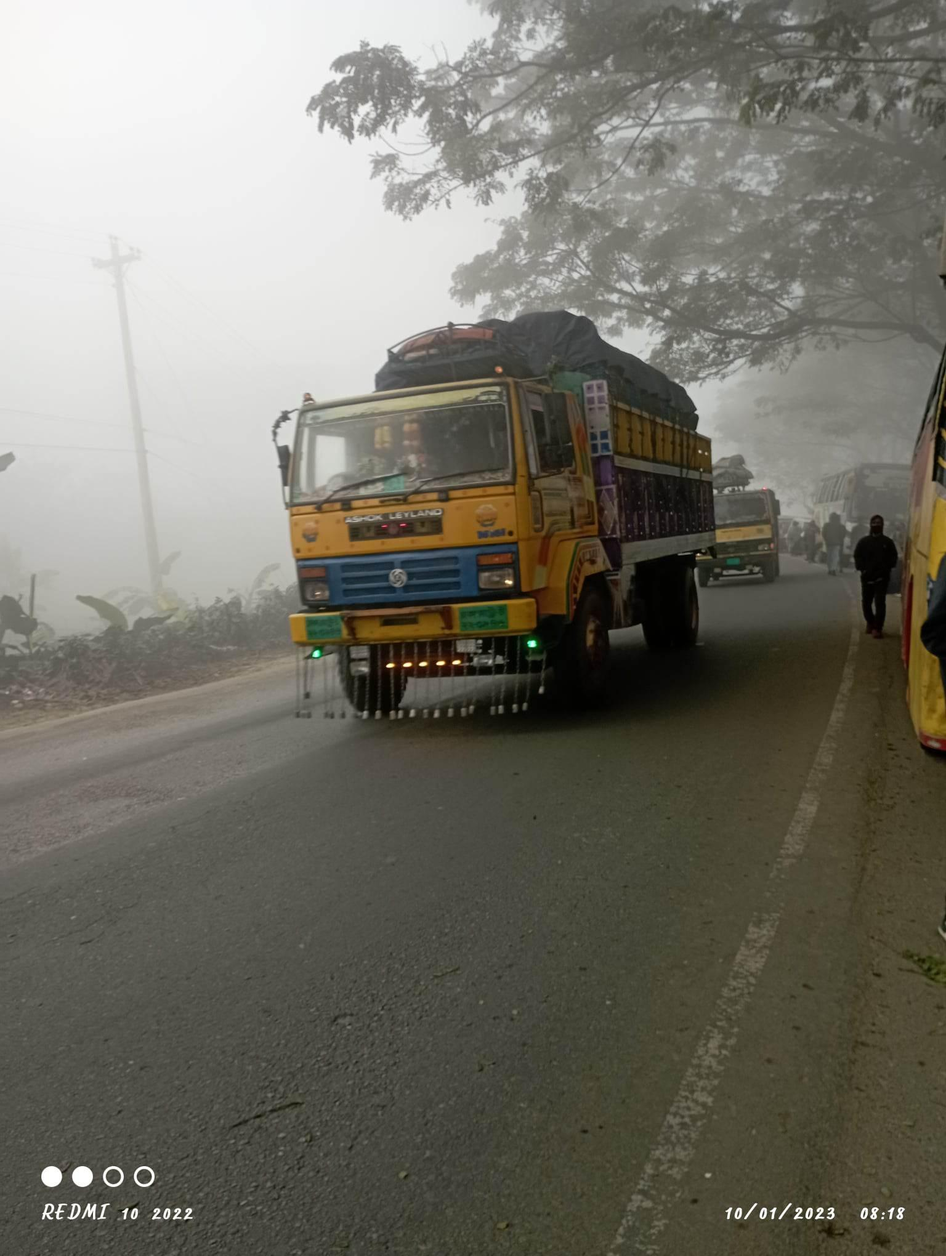Bus: (806, 439, 910, 599)
Truck: (220, 312, 720, 720), (706, 445, 792, 595)
